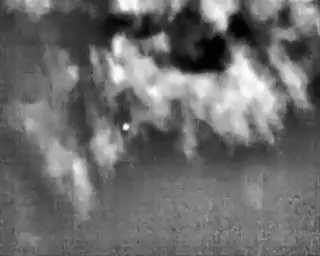AIRPLANE: (120, 119, 132, 133)
